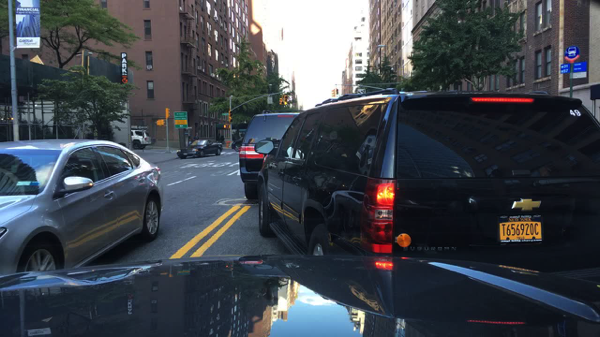car: (254, 88, 599, 285), (0, 139, 164, 278), (238, 112, 304, 202), (176, 139, 224, 160), (131, 128, 153, 151), (232, 138, 245, 154)
traffic light: (229, 112, 234, 122), (165, 109, 170, 118), (283, 95, 287, 105), (330, 90, 335, 98), (335, 88, 339, 97), (157, 121, 164, 126), (279, 100, 282, 107), (224, 125, 229, 129)
traffic sign: (563, 46, 580, 62), (571, 63, 587, 80), (175, 111, 188, 130), (559, 64, 571, 74), (357, 88, 365, 95), (222, 113, 229, 117)
